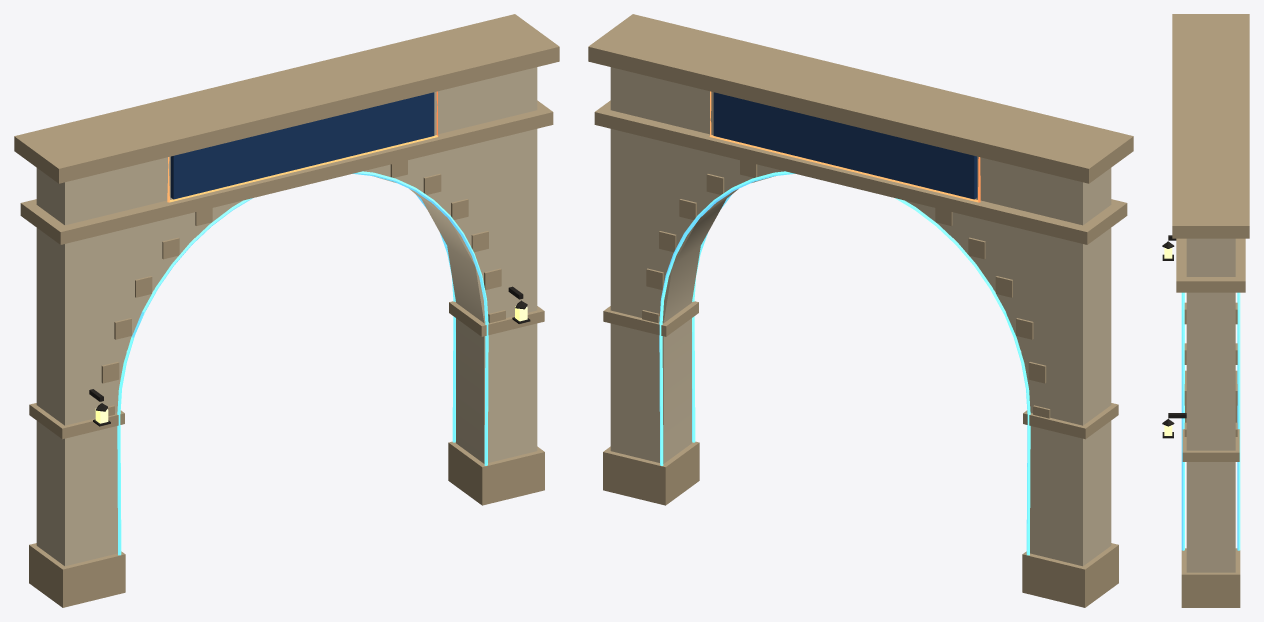
The picture shows the model from 3 angles, left to right: view 1: azimuth 30°, elevation 25°; view 2: azimuth 150°, elevation 25°; view 3: azimuth 270°, elevation 25°; orthographic projection. The views are drawn at different scales.
Parts seen in each view (by area): view 1: gate.lod1; view 2: gate.lod1; view 3: gate.lod1.
Part boxes in pixels (x1=…): gate.lod1: x1=14, y1=14, x2=559, y2=607; gate.lod1: x1=588, y1=14, x2=1133, y2=607; gate.lod1: x1=1162, y1=14, x2=1249, y2=607.
Size of the model in its own units: 12.3 by 10.45 by 2.15.
